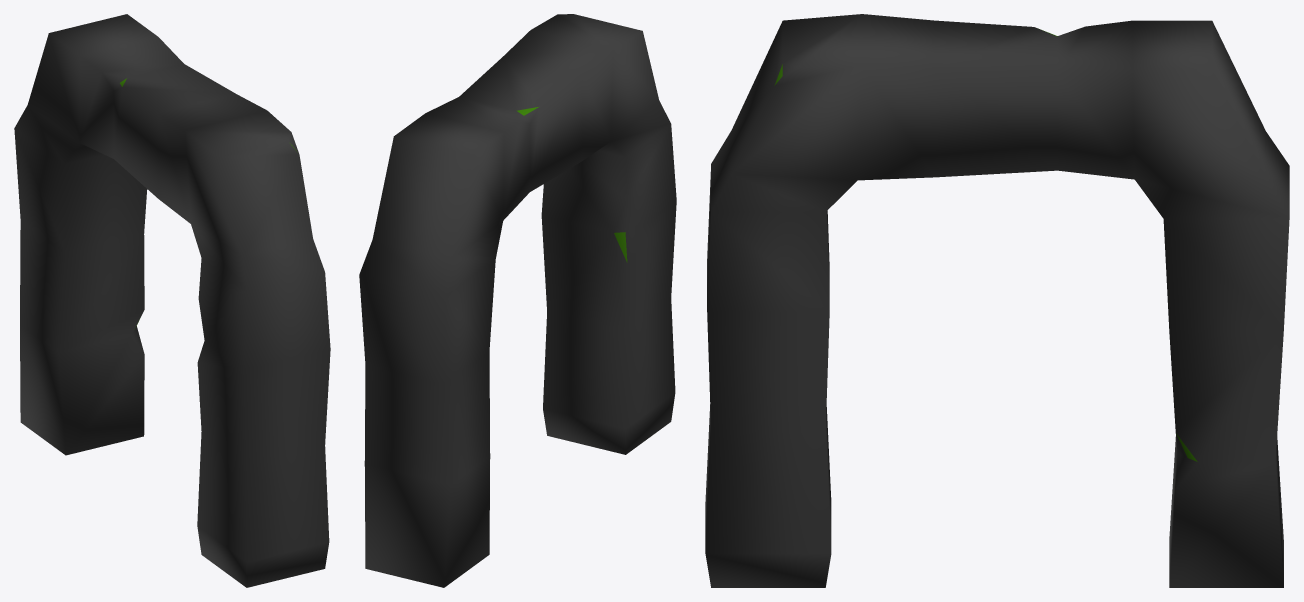
File: RuinsEntrance.glb
3 views of the same model, side by side, from view 1: azimuth 30°, elevation 25°; view 2: azimuth 150°, elevation 25°; view 3: azimuth 270°, elevation 25° (orthographic). The views are drawn at different scales.
Visible parts, largest first — view 1: Entrance; view 2: Entrance; view 3: Entrance.
Part boxes in pixels (x1,y1,x2,y2): Entrance: [14, 14, 330, 587]; Entrance: [359, 14, 676, 587]; Entrance: [705, 14, 1289, 587].
Bounding box in the file's own units: 1.1 × 5.05 × 5.1.
1 material, 1 textured.
